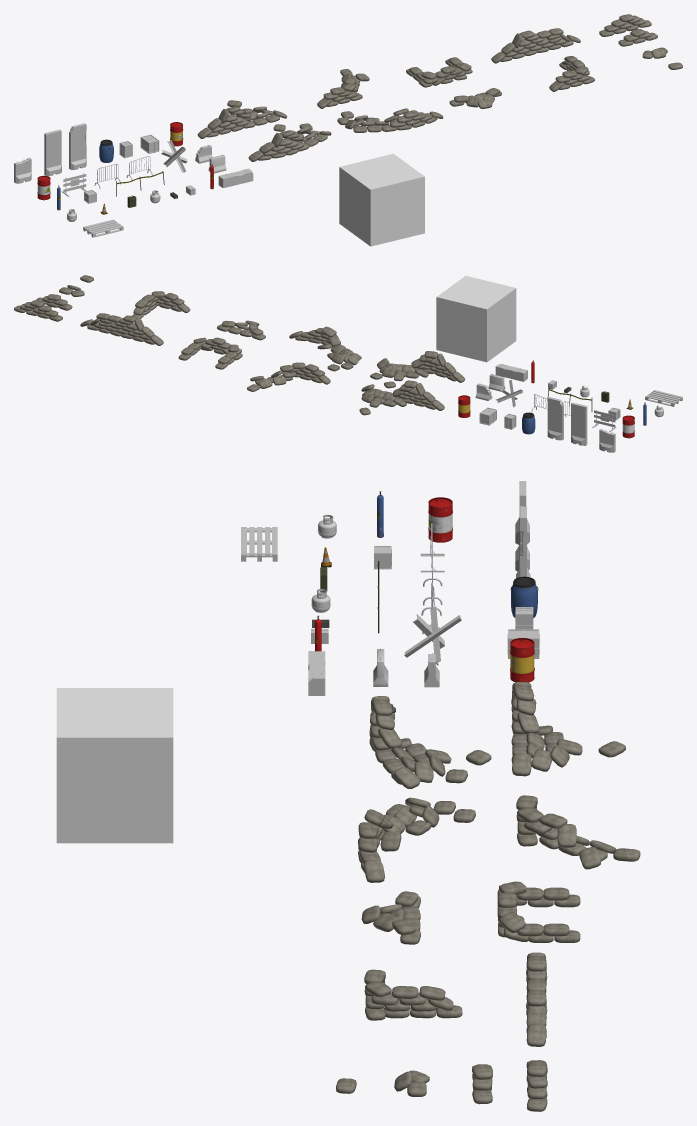
Rendered from FPSMapProps.fbx.
3 views of the same model, one above another, from view 1: azimuth 30°, elevation 25°; view 2: azimuth 150°, elevation 25°; view 3: azimuth 270°, elevation 25° (orthographic). The views are drawn at different scales.
Visible parts, largest first — view 1: Cube, Cover9_LOD0, Cover10_LOD0, Cover1_LOD0, Cover8_LOD0, Cover11_LOD0, Cover6_LOD0, ConcreteBarrier, ConcreteBarrierDamaged_LOD0, Cover2_LOD0, Cover7_LOD0, CubeConcreteBarrier_LOD0 (+4 smaller); view 2: Cube, Cover9_LOD0, Cover10_LOD0, Cover1_LOD0, Cover11_LOD0, Cover8_LOD0, Cover6_LOD0, ConcreteBarrier, ConcreteBarrierDamaged_LOD0, Cover7_LOD0, Cover2_LOD0, CubeConcreteBarrier_LOD0 (+4 smaller); view 3: Cube, Cover9_LOD0, Cover10_LOD0, Cover11_LOD0, Cover8_LOD0, Cover6_LOD0, Cover7_LOD0, Cover1_LOD0, Pallet_LOD0, BarrelWhite_LOD0, BarrelYellow_LOD0, Cover2_LOD0 (+1 smaller).
Boxes of the visible parts, x1,y1,x2,y2 form: Cube: (339, 153, 424, 246); Cover9_LOD0: (248, 108, 443, 161); Cover10_LOD0: (197, 100, 287, 138); Cover1_LOD0: (491, 28, 580, 63); Cover8_LOD0: (406, 57, 472, 87); Cover11_LOD0: (317, 69, 369, 108); Cover6_LOD0: (549, 56, 594, 91); ConcreteBarrier: (44, 129, 61, 176); ConcreteBarrierDamaged_LOD0: (69, 123, 86, 169); Cover2_LOD0: (599, 14, 651, 36); Cover7_LOD0: (449, 88, 501, 108); CubeConcreteBarrier_LOD0: (218, 168, 253, 187); Cube: (436, 276, 516, 362); Cover9_LOD0: (289, 326, 464, 388); Cover10_LOD0: (359, 380, 444, 415); Cover1_LOD0: (80, 313, 163, 345); Cover11_LOD0: (247, 362, 330, 391); Cover8_LOD0: (178, 337, 242, 369); Cover6_LOD0: (132, 291, 190, 318); ConcreteBarrier: (571, 402, 587, 445); ConcreteBarrierDamaged_LOD0: (547, 397, 563, 440); Cover7_LOD0: (217, 320, 265, 340); Cover2_LOD0: (14, 300, 62, 321); CubeConcreteBarrier_LOD0: (495, 364, 527, 381); Cube: (56, 688, 173, 843); Cover9_LOD0: (358, 696, 491, 882); Cover10_LOD0: (511, 682, 625, 776); Cover11_LOD0: (516, 795, 640, 869); Cover8_LOD0: (497, 881, 580, 942); Cover6_LOD0: (364, 969, 462, 1020); Cover7_LOD0: (361, 891, 420, 944); Cover1_LOD0: (526, 952, 547, 1046); Pallet_LOD0: (241, 527, 277, 561); BarrelWhite_LOD0: (428, 497, 452, 542); BarrelYellow_LOD0: (510, 638, 534, 682); Cover2_LOD0: (526, 1060, 547, 1111).
Size of what is drawn, in the model's own units: 23.54 by 2.47 by 9.99.
